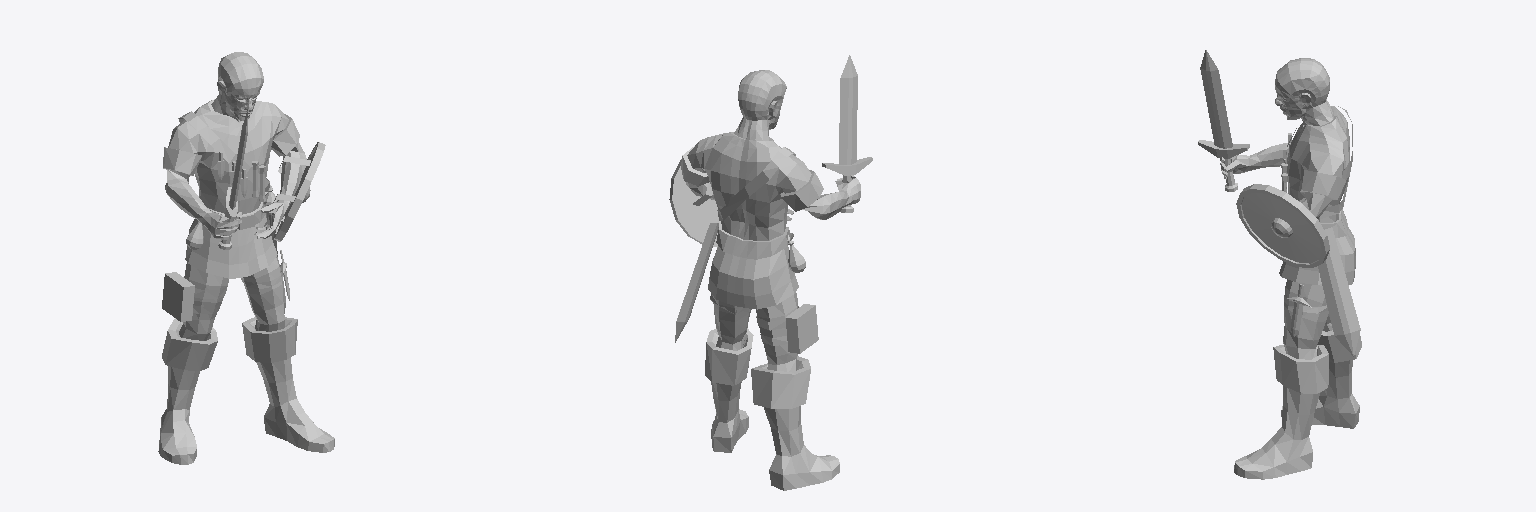
The model's file is char_anim_000173.obj.
3 views of the same model, side by side, from view 1: azimuth 30°, elevation 25°; view 2: azimuth 150°, elevation 25°; view 3: azimuth 270°, elevation 25° (orthographic).
Visible parts, largest first — view 1: Body.001, Funda.001_LegBag, Shield, Sword, Bandolera; view 2: Body.001, Sword, Shield, Funda.001_LegBag, Sheat, Bandolera; view 3: Body.001, Shield, Sheat, Sword, LegKnife.
Part boxes in pixels (x1,y1,x2,y2): Body.001: (158,52,334,464); Funda.001_LegBag: (162,272,227,321); Shield: (273,142,325,241); Sword: (218,109,248,249); Bandolera: (178,111,269,191); Body.001: (681,70,860,490); Sword: (822,55,872,212); Shield: (669,159,718,247); Funda.001_LegBag: (756,304,818,353); Sheat: (675,220,718,342); Bandolera: (717,147,795,220); Body.001: (1220,58,1361,479); Shield: (1236,184,1329,267); Sheat: (1318,227,1360,356); Sword: (1198,50,1249,191); LegKnife: (1284,284,1327,337).
Size of the model in its own units: 0.9755 by 2.26 by 0.874.